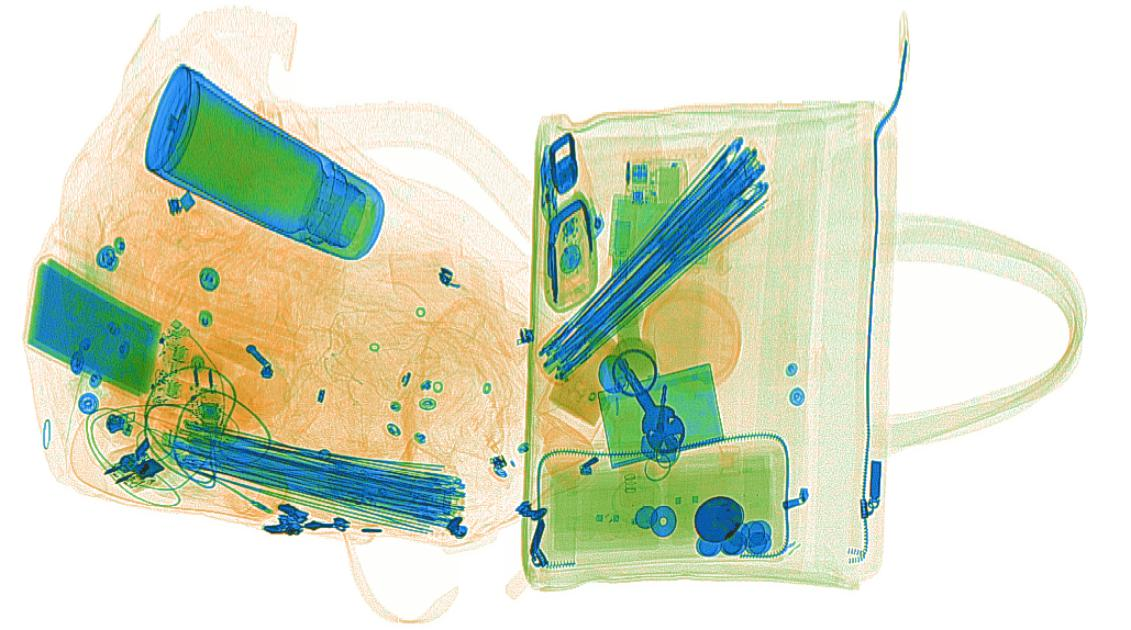seal: (602, 296, 658, 386)
